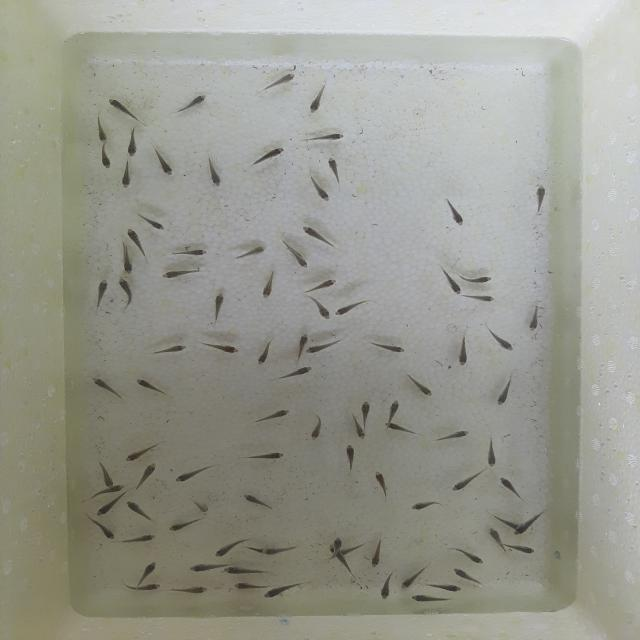fingerling: (254, 72, 299, 100), (168, 92, 212, 118), (404, 370, 438, 400), (367, 469, 397, 502), (362, 535, 390, 570), (272, 363, 318, 384), (131, 376, 171, 400), (238, 491, 278, 513), (200, 152, 224, 188), (440, 195, 465, 229), (488, 378, 516, 408), (304, 84, 330, 116), (240, 448, 292, 464), (298, 224, 331, 249), (132, 460, 159, 490), (256, 403, 294, 424), (121, 441, 160, 461), (324, 153, 347, 186), (488, 329, 521, 352), (85, 373, 118, 396), (126, 228, 154, 255), (151, 148, 177, 177), (360, 341, 410, 356), (484, 524, 509, 554), (88, 112, 110, 146), (105, 97, 139, 119), (375, 570, 397, 604), (198, 340, 244, 356), (305, 411, 328, 443), (305, 337, 348, 354), (172, 467, 210, 486), (134, 210, 170, 230), (215, 538, 255, 556), (284, 246, 316, 268), (261, 584, 305, 600), (334, 299, 371, 318), (498, 475, 525, 500), (163, 266, 205, 282), (301, 277, 340, 294), (207, 291, 227, 324), (446, 471, 479, 491), (452, 569, 490, 586), (308, 173, 328, 205), (254, 338, 276, 366), (448, 546, 484, 563), (383, 394, 404, 422), (395, 568, 424, 588), (438, 270, 462, 294), (93, 461, 116, 486), (237, 243, 270, 260), (165, 518, 208, 531), (432, 578, 463, 596), (168, 245, 210, 258), (258, 272, 278, 299), (383, 421, 419, 436), (340, 443, 360, 470), (95, 275, 110, 310), (409, 592, 456, 603), (405, 501, 448, 513), (120, 244, 136, 276), (454, 337, 470, 369), (512, 518, 544, 534), (483, 437, 500, 467), (91, 517, 114, 539), (309, 130, 351, 142), (98, 482, 129, 498), (123, 128, 139, 158), (116, 278, 132, 308), (312, 295, 332, 319), (464, 291, 496, 306), (127, 501, 152, 520), (89, 150, 115, 168), (489, 515, 520, 530), (261, 145, 290, 161), (361, 396, 375, 429), (152, 344, 192, 355), (511, 543, 540, 558), (292, 331, 308, 358), (225, 566, 273, 575), (124, 583, 160, 595), (441, 429, 473, 442), (93, 500, 119, 516), (352, 413, 366, 442), (120, 162, 133, 192), (529, 304, 541, 336), (534, 185, 548, 212), (170, 586, 212, 595), (139, 560, 161, 577), (184, 562, 227, 570), (227, 582, 266, 590), (124, 534, 158, 543), (464, 276, 497, 284), (262, 548, 300, 554), (332, 538, 343, 553)
